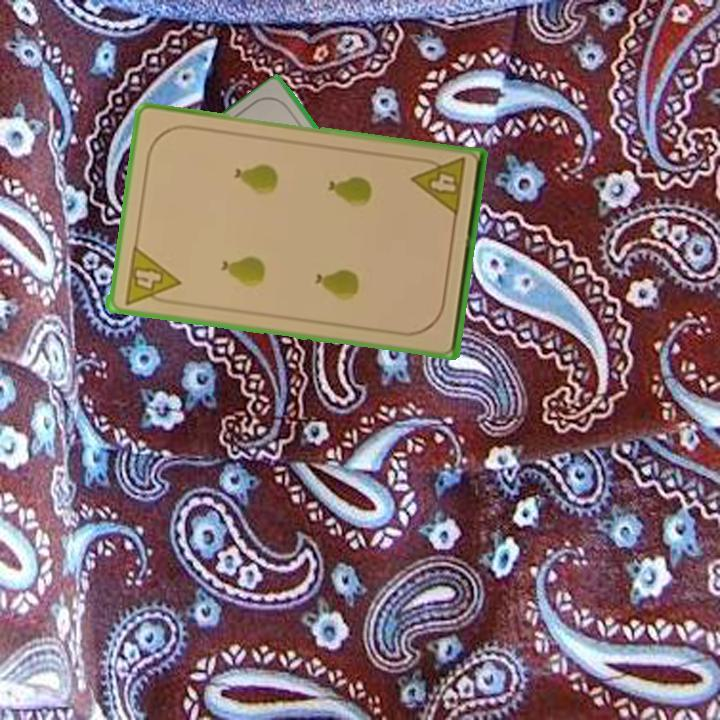4p: (120, 242, 182, 308), (408, 154, 469, 219)
